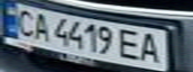1: (81, 21, 100, 53)
4: (48, 16, 72, 47), (66, 19, 84, 51)
9: (93, 24, 118, 56)
A: (136, 29, 166, 64), (30, 10, 54, 42)
C: (12, 7, 39, 38)
E: (115, 26, 145, 61)
